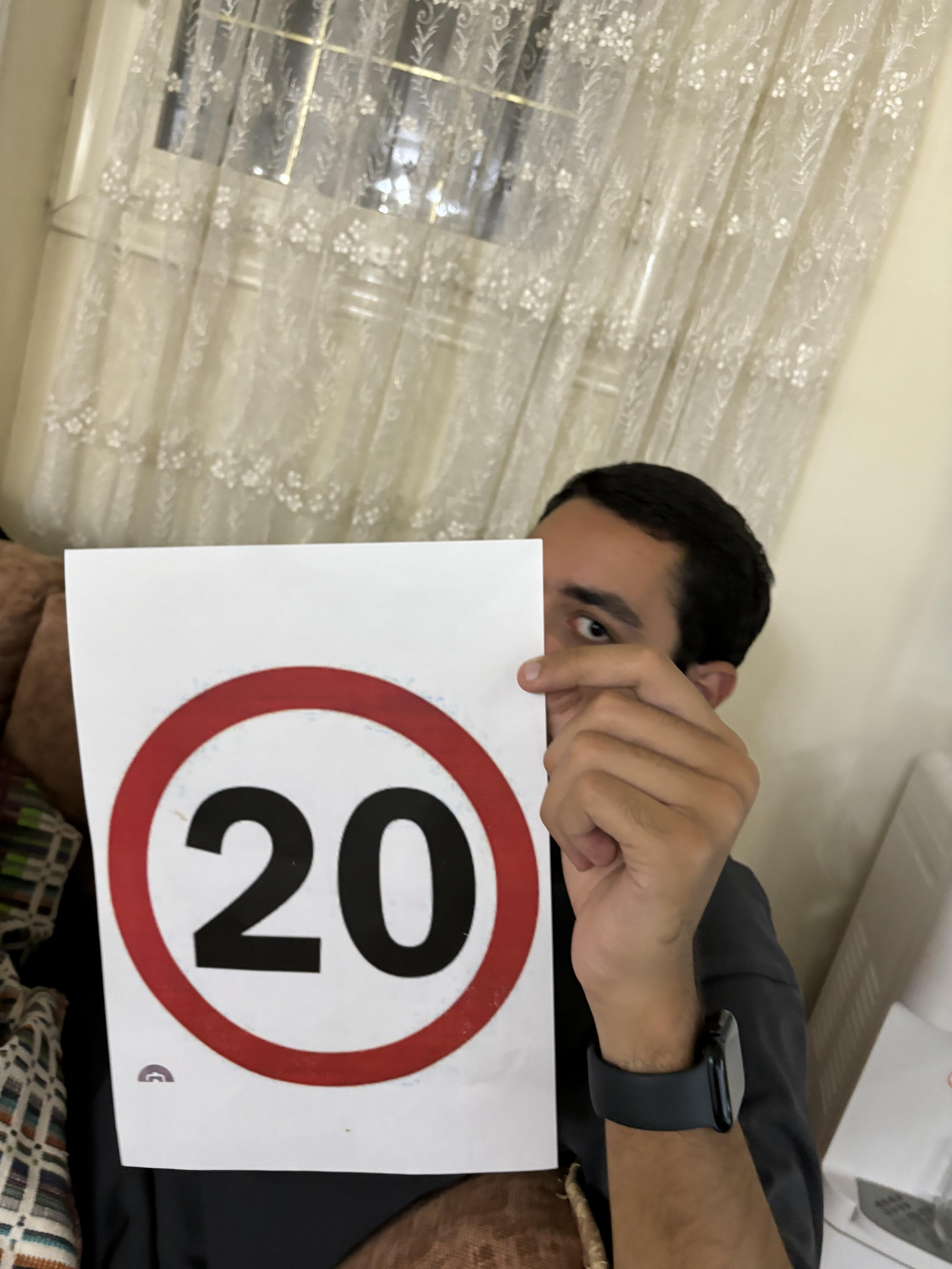20-Speed: (107, 660, 540, 1087)
